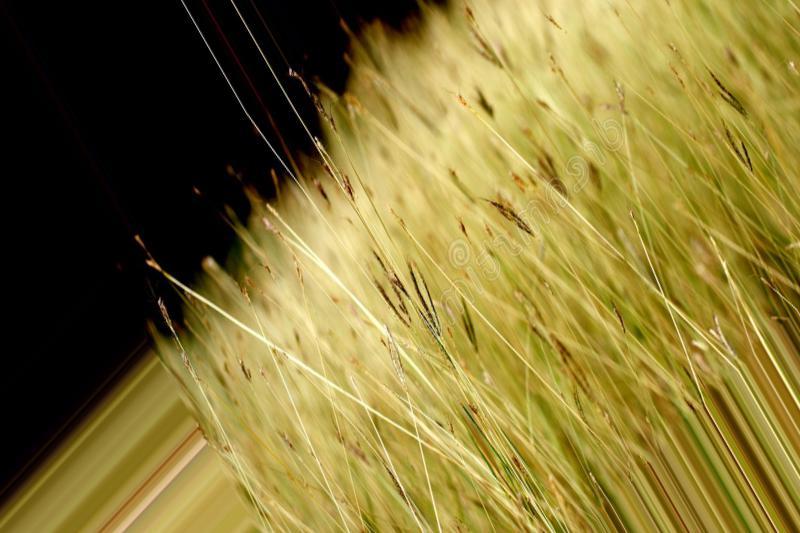patch: (244, 216, 758, 502)
